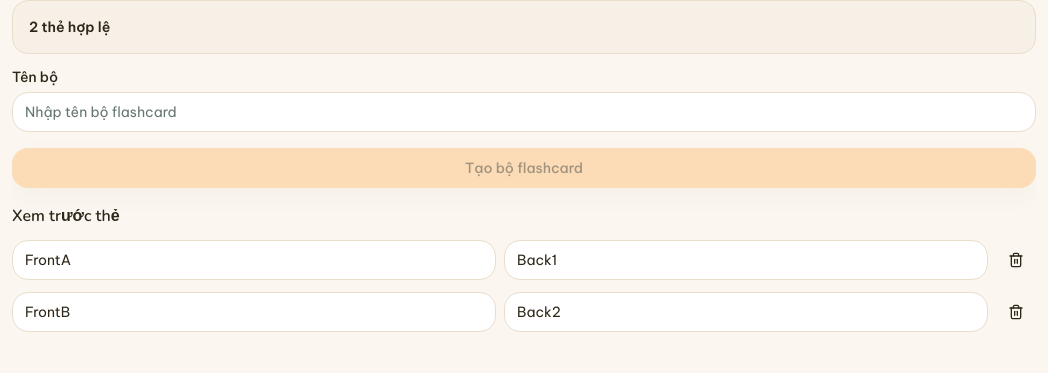
Test: CreateSummary › updates validation when a card is edited to be blank
Check: the text "2 thẻ hợp lệ" is shown, box [29,18,110,36]
Clear the 1st field showing "FrontA" at coordinates (254, 260), box [12,240,496,280]
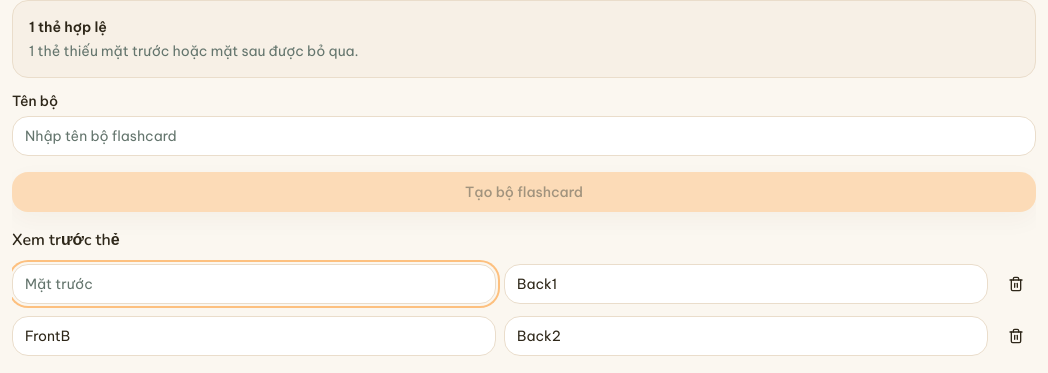
Check: the text "1 thẻ hợp lệ" is shown, box [29,18,107,36]
Check: the text "1 thẻ thiếu mặt trước hoặc mặt sau được bỏ qua." is shown, box [29,42,359,60]
